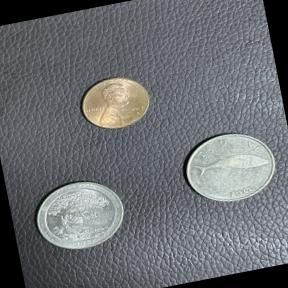Croatia-2Kune-B: (173, 120, 286, 214)
US-1cent-B: (73, 68, 157, 138)
US-25cent-B: (26, 170, 134, 260)
